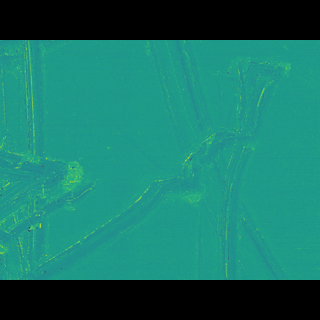Loch: (0, 77, 297, 250)
